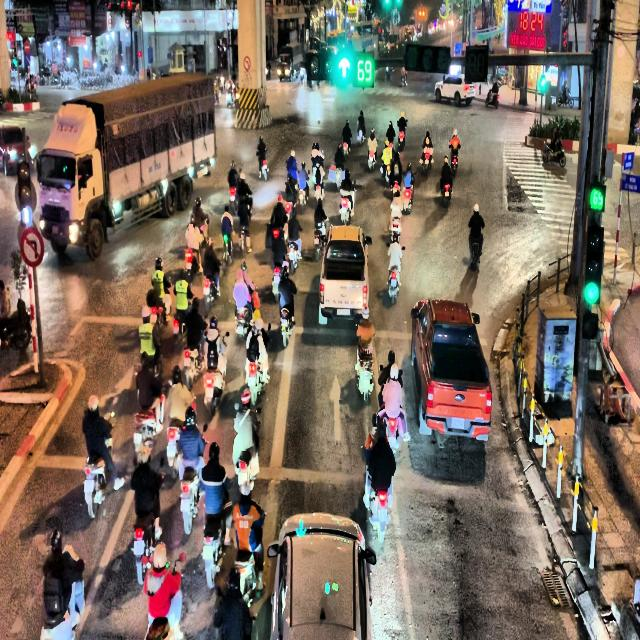lisence_plate: (445, 414, 466, 432), (334, 308, 352, 316)
